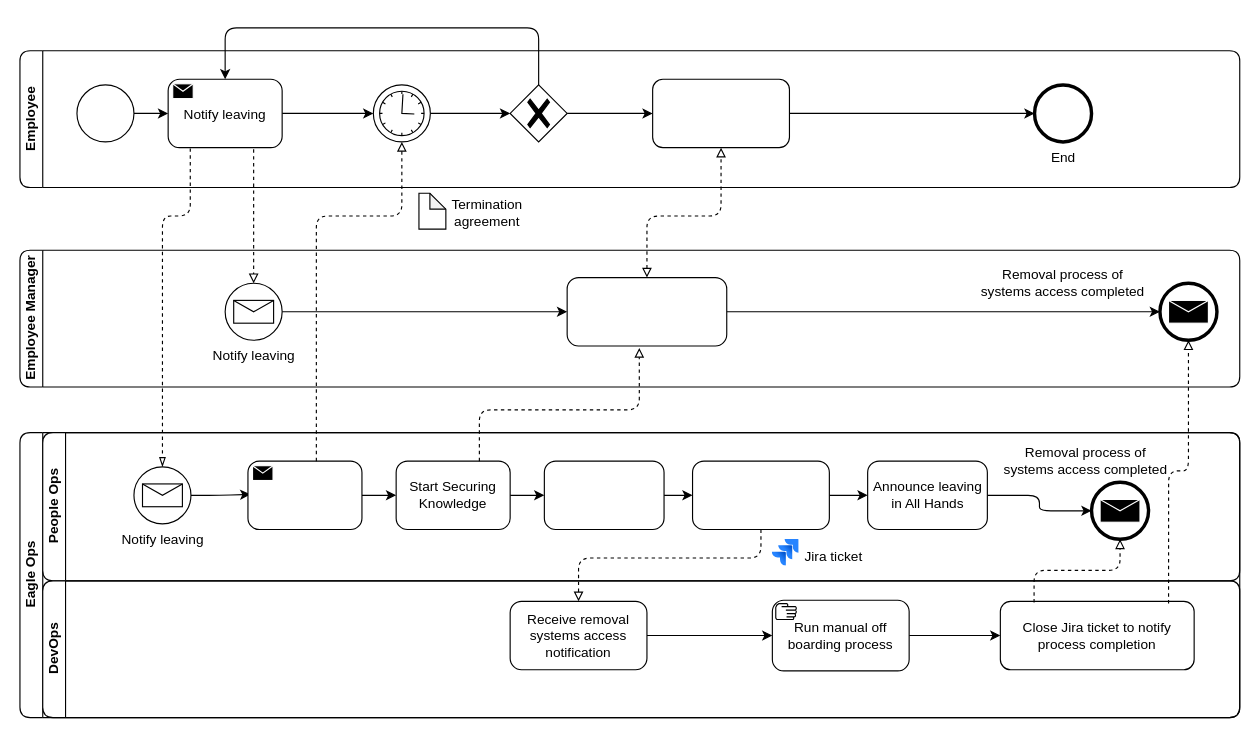
This 1260x738 diagram has some shape labels left out. The centre of each missing label's shape, as x and y in pixels:
"Confirmation received" belongs at (x=538, y=113).
"Request individual's removal systems access" belongs at (x=760, y=495).
"Securing Knowledge (Prepare handover, checklist, etc)" belongs at (x=646, y=311).
"Send confirmation" belongs at (x=304, y=495).
"Start" belongs at (x=105, y=113).
"Support handover" belongs at (x=720, y=113).
"Understand the reason (Exit interview)" belongs at (x=603, y=495).
